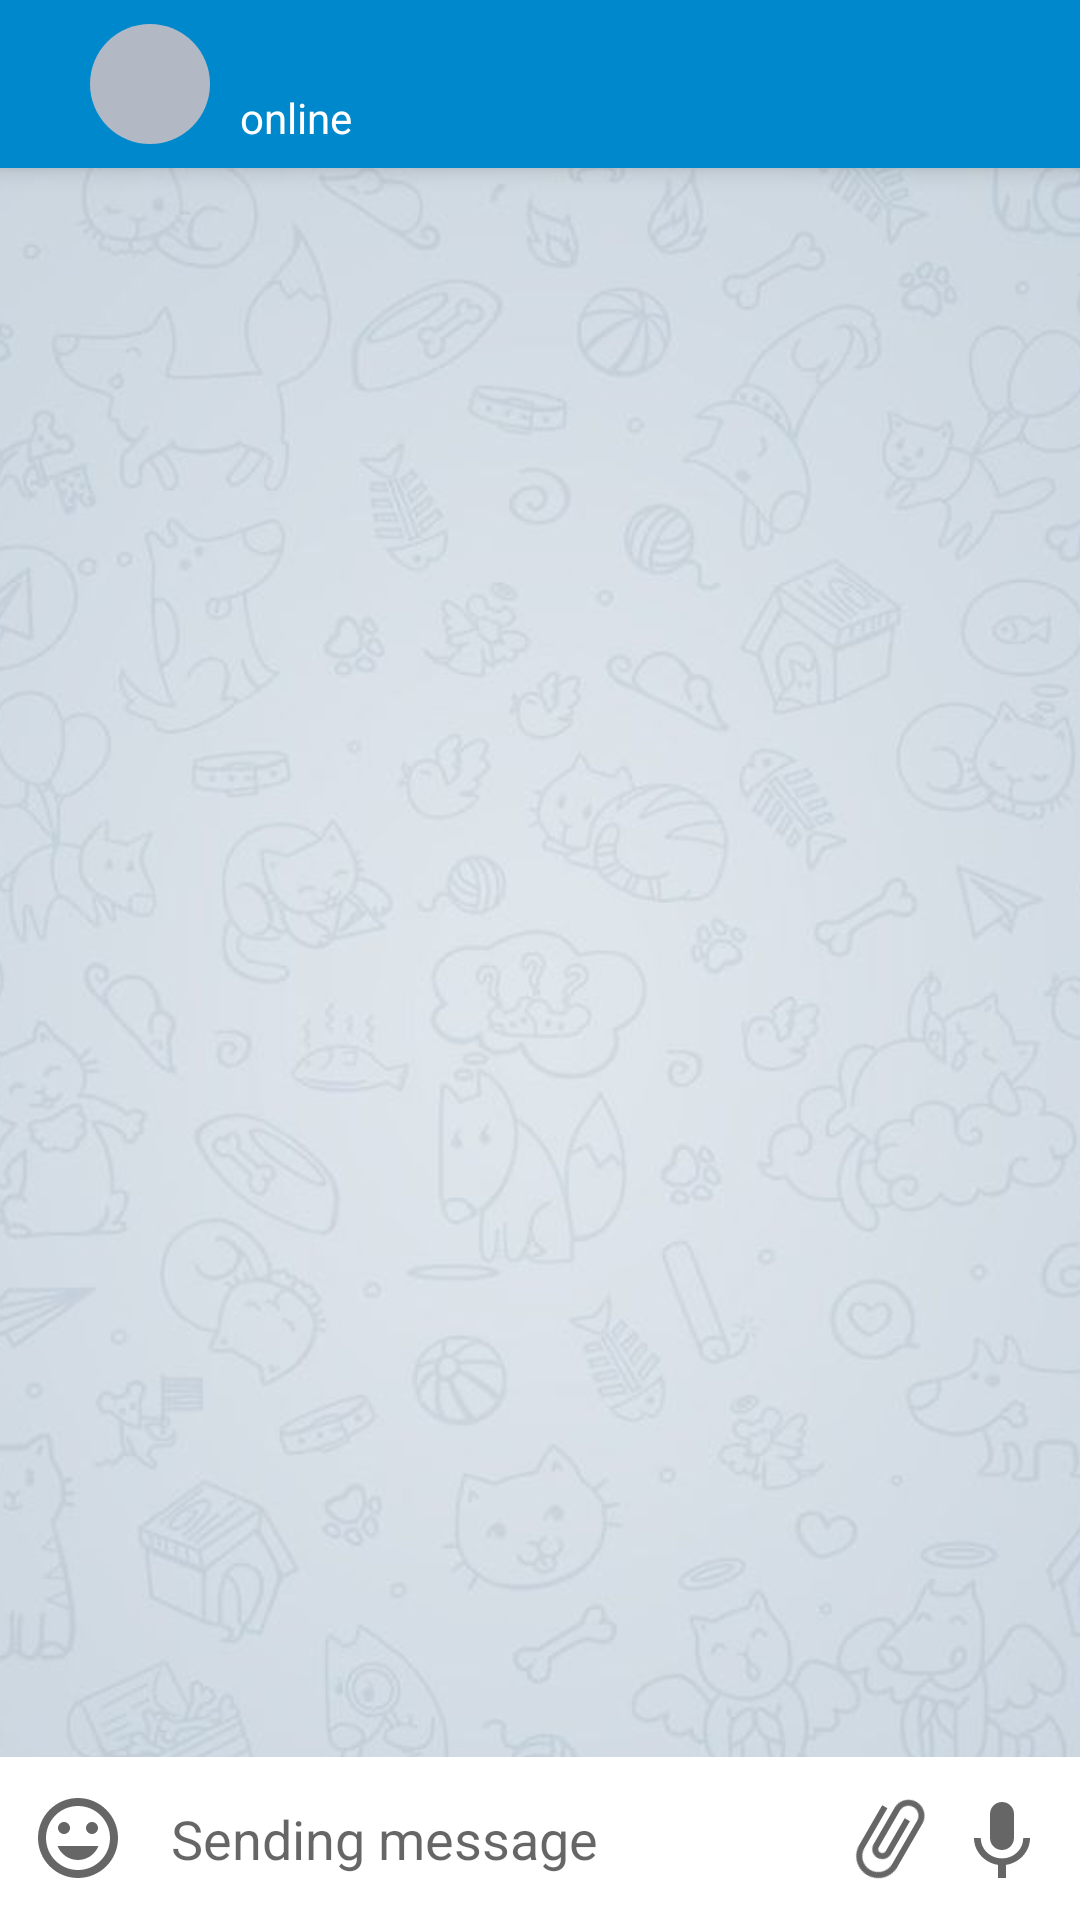

Icon click points for this 1080×1920 phone screenshot, format [x,y]:
keyboard voice: [1002,1840]
tag faces: [78,1838]
